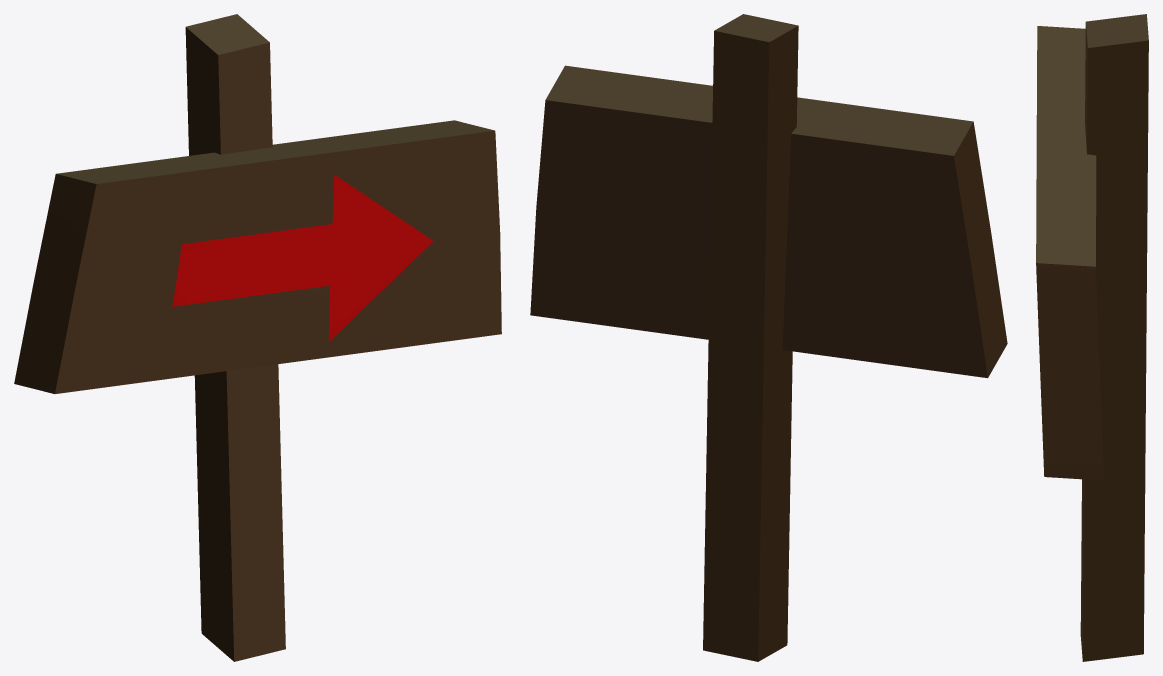
The model's file is SW_Sign.fbx.
3 views of the same model, side by side, from view 1: azimuth 30°, elevation 25°; view 2: azimuth 150°, elevation 25°; view 3: azimuth 270°, elevation 25° (orthographic). The views are drawn at different scales.
Parts seen in each view (by area): view 1: SW_Sign; view 2: SW_Sign; view 3: SW_Sign.
Part boxes in pixels (left/top/right/bottom): SW_Sign: left=14, top=14, right=501, bottom=661; SW_Sign: left=530, top=14, right=1007, bottom=661; SW_Sign: left=1036, top=14, right=1148, bottom=661.
Bounding box in the file's own units: 102 × 131 × 21.79.
